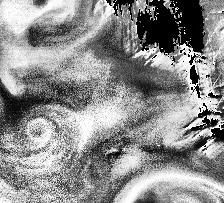CE: (10, 100, 81, 176)
